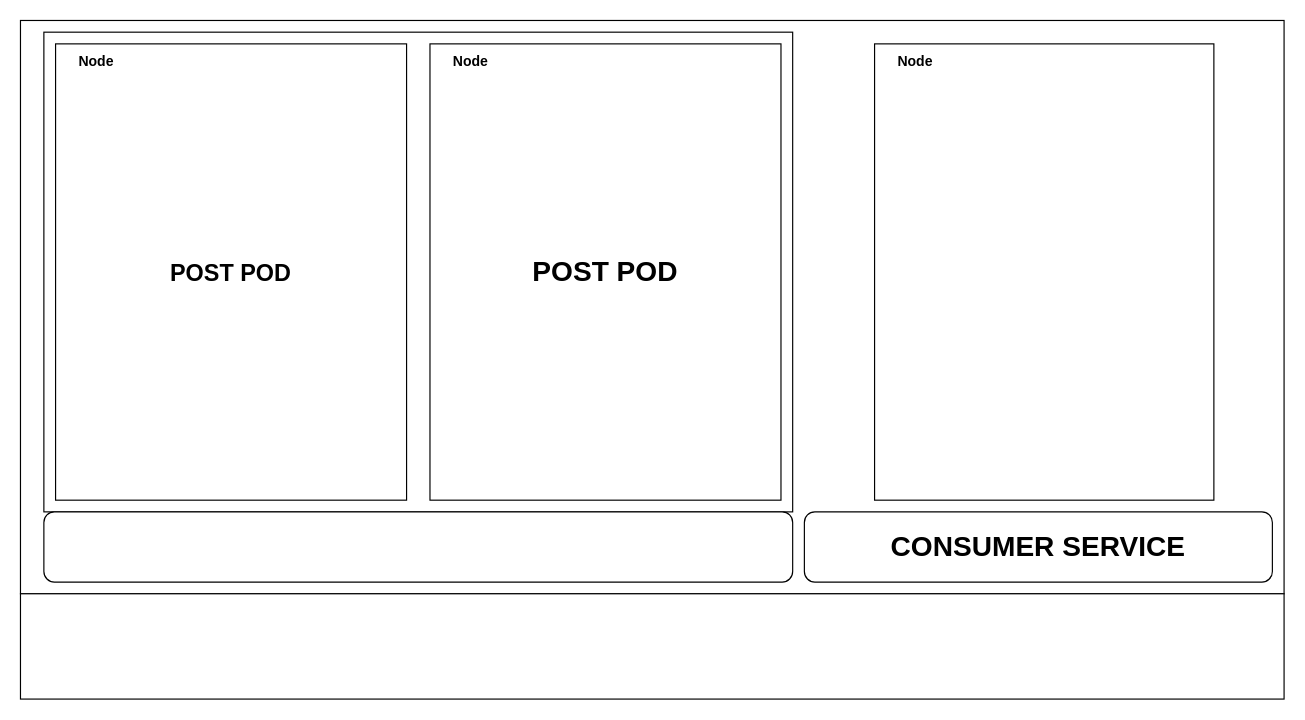
The diagram is 1305 pixels wide and 720 high, and some of its shapes have lost their labels. The shapes that lost their labels are listed below. From the top down, each one's centre as x and y in pixels, then its label:
At (x=418, y=546): "PRODUCER SERVICE".
At (x=651, y=646): "KUBERNATIES".
